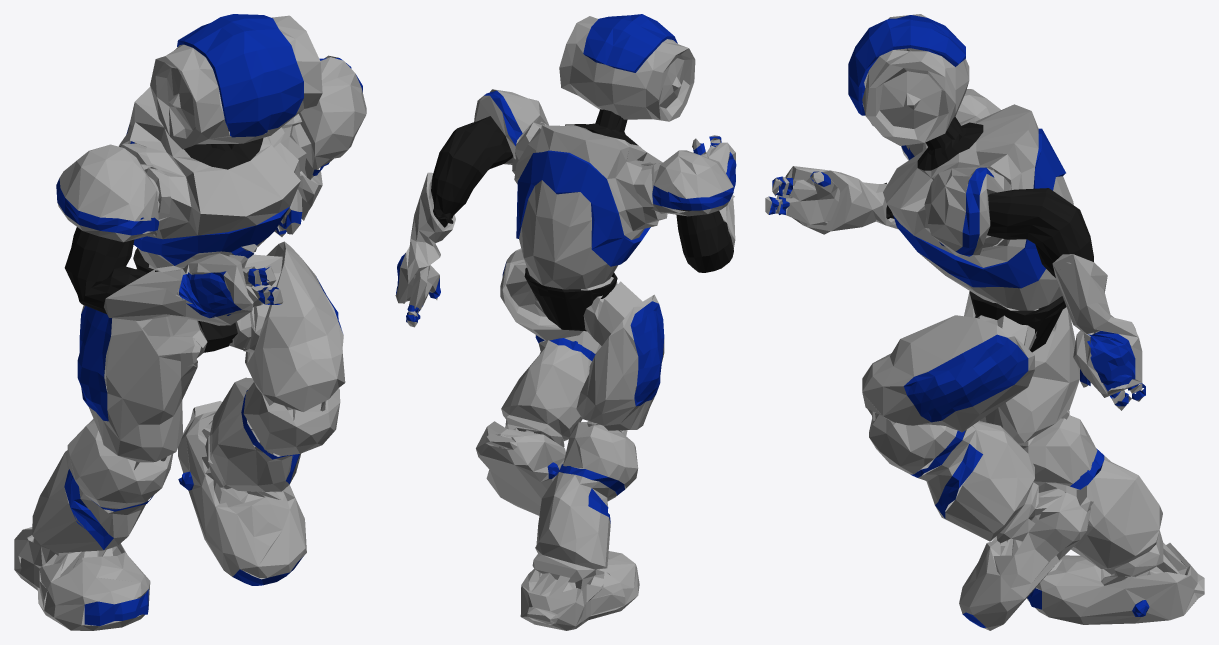
File: run2.obj
3 renders of one model, left to right at view 1: azimuth 30°, elevation 25°; view 2: azimuth 150°, elevation 25°; view 3: azimuth 270°, elevation 25°, orthographic. The views are drawn at different scales.
Parts seen in each view (by area): view 1: Robot2.001_Robot2Mesh.000, Robot2_Robot2Mesh.004, Robot2.002_Robot2Mesh.001; view 2: Robot2.001_Robot2Mesh.000, Robot2_Robot2Mesh.004, Robot2.002_Robot2Mesh.001; view 3: Robot2.001_Robot2Mesh.000, Robot2_Robot2Mesh.004, Robot2.002_Robot2Mesh.001.
Boxes of the visible parts, x1=… form: Robot2.001_Robot2Mesh.000: x1=14, y1=15, x2=366, y2=630; Robot2_Robot2Mesh.004: x1=56, y1=14, x2=362, y2=626; Robot2.002_Robot2Mesh.001: x1=64, y1=128, x2=263, y2=352; Robot2.001_Robot2Mesh.000: x1=395, y1=16, x2=735, y2=630; Robot2_Robot2Mesh.004: x1=396, y1=14, x2=736, y2=523; Robot2.002_Robot2Mesh.001: x1=431, y1=109, x2=733, y2=331; Robot2.001_Robot2Mesh.000: x1=765, y1=14, x2=1204, y2=630; Robot2_Robot2Mesh.004: x1=769, y1=15, x2=1149, y2=627; Robot2.002_Robot2Mesh.001: x1=884, y1=116, x2=1093, y2=352.
Bounding box in the file's own units: 1.02 × 1.93 × 1.27.
